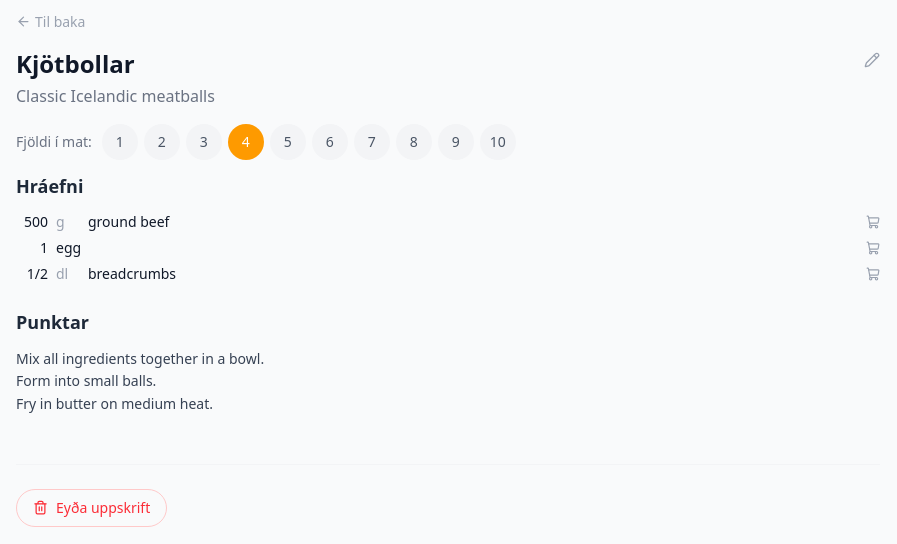
Test case: Recipe page › disables the add button after adding
Expected: the heading "Kjötbollar" is shown, x1=16 y1=46 x2=135 y2=80
Click the button named "add ground beef to grocery". click: [873, 222]
box: x1=866 y1=214 x2=880 y2=228
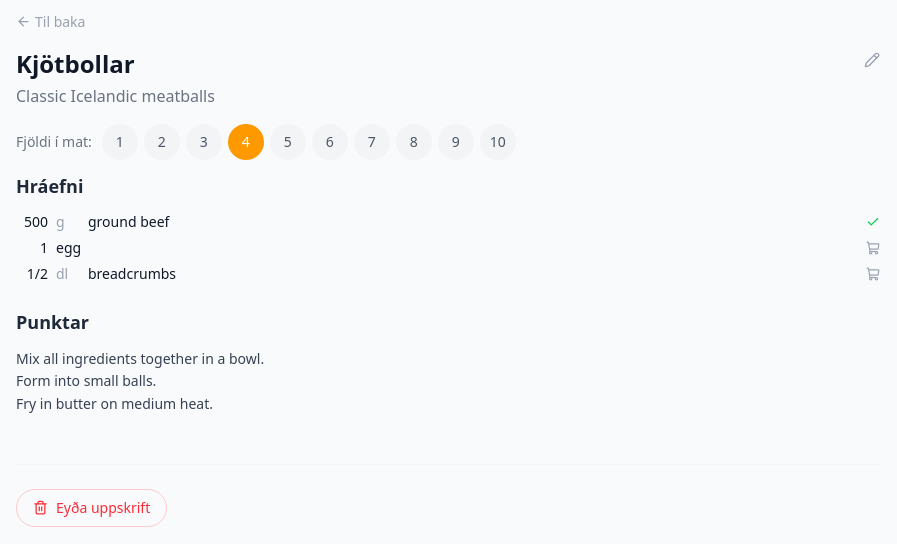
Expected: the button named "add ground beef to grocery" is disabled, x1=866 y1=214 x2=880 y2=228
